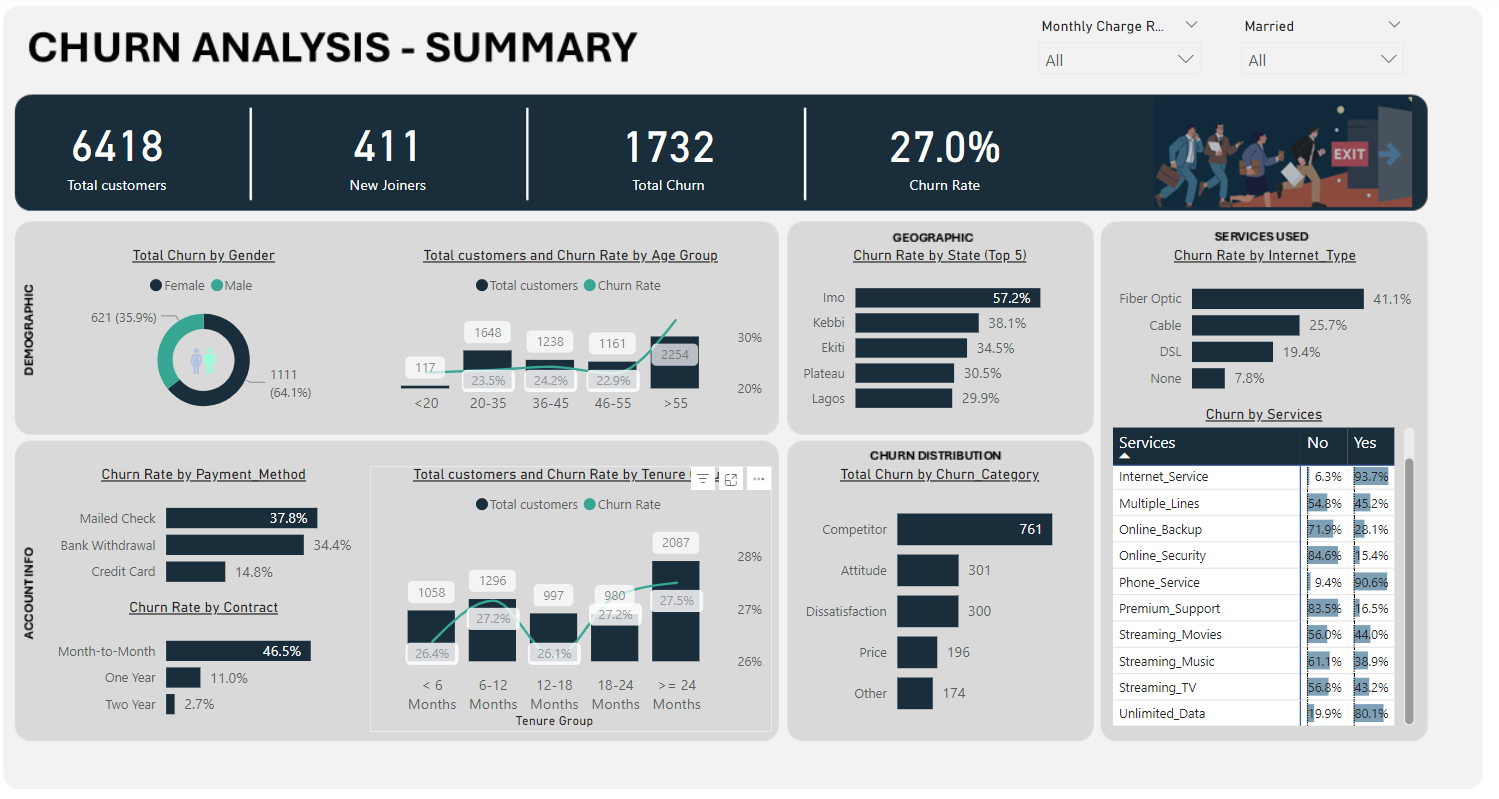

The page's visual inventory and layout, read from the dashboard file:
{"tool":"powerbi","page":{"name":"Summary","canvas":[1280,720],"ordinal":1},"visuals":[{"type":"card","fields":{"Values":["tbl_measures.Total customers"]},"box":[26.2,92.9,160,75],"z":0},{"type":"card","fields":{"Values":["tbl_measures.Total Churn"]},"box":[485.7,92.6,160.9,75.5],"z":1000},{"type":"card","fields":{"Values":["tbl_measures.New Joiners"]},"box":[252.2,92.9,160,75],"z":2000},{"type":"card","fields":{"Values":["tbl_measures.Churn Rate"]},"box":[717.6,92.6,160,75.5],"z":3000},{"type":"donutChart","fields":{"Category":["prod_Churn.Gender"],"Y":["tbl_measures.Total Churn"]},"box":[45,210,266.7,148.3],"z":4000},{"type":"lineStackedColumnComboChart","fields":{"Category":["mapping_AgeGrp.Age Group"],"Y":["tbl_measures.Total customers"],"Y2":["tbl_measures.Churn Rate"]},"box":[317.8,210,335,147.8],"z":5000},{"type":"barChart","fields":{"Category":["prod_Churn.Payment_Method"],"Y":["tbl_measures.Churn Rate"]},"box":[45,392.2,266.7,111.7],"z":6000},{"type":"barChart","fields":{"Category":["prod_Churn.Contract"],"Y":["tbl_measures.Churn Rate"]},"box":[45,503.9,266.7,111.1],"z":7000},{"type":"lineStackedColumnComboChart","fields":{"Y":["tbl_measures.Total customers"],"Y2":["tbl_measures.Churn Rate"],"Category":["mapping_TenureGrp.Tenure Group"]},"box":[317.8,392.2,335,222.8],"z":8000},{"type":"clusteredBarChart","title":"Churn Rate by State (Top 5)","fields":{"Category":["prod_Churn.State"],"Y":["tbl_measures.Churn Rate"]},"box":[670,210,246.7,148.3],"z":9000},{"type":"clusteredBarChart","fields":{"Category":["prod_Churn.Churn_Category"],"Y":["tbl_measures.Total Churn"]},"box":[670,392.2,246.7,222.8],"z":10000},{"type":"clusteredBarChart","fields":{"Y":["tbl_measures.Churn Rate"],"Category":["prod_Churn.Internet_Type"]},"box":[933,209.7,263.9,132.8],"z":11000},{"type":"pivotTable","title":"Churn by Services","fields":{"Rows":["prod_Services.Services"],"Columns":["prod_Services.Status"],"Values":["Sum(prod_Services.Churn Status)"]},"box":[933,342.5,262.3,272.3],"z":12000},{"type":"slicer","fields":{"Values":["prod_Churn.Monthly Charge Range"]},"box":[694.1,11.7,156.2,64.3],"z":13000},{"type":"slicer","fields":{"Values":["prod_Churn.Married"]},"box":[863.7,11.7,156.2,64.3],"z":14000},{"type":"image","box":[160.3,286.9,35.7,36],"z":15000},{"type":"shape","box":[1100,43.8,102.7,25.4],"z":15001}]}

Visuals, with their boxes on the page's 1280x720 design canvas (x1, y1, x2, y2). These are canvas units, not pixel positions in the 1499x799 screenshot, which may show the page scaled, cropped or inside an application window:
card - tbl_measures.Total customers: Rect(26, 93, 186, 168)
card - tbl_measures.Total Churn: Rect(486, 93, 647, 168)
card - tbl_measures.New Joiners: Rect(252, 93, 412, 168)
card - tbl_measures.Churn Rate: Rect(718, 93, 878, 168)
donutChart - prod_Churn.Gender x tbl_measures.Total Churn: Rect(45, 210, 312, 358)
lineStackedColumnComboChart - mapping_AgeGrp.Age Group x tbl_measures.Total customers: Rect(318, 210, 653, 358)
barChart - prod_Churn.Payment_Method x tbl_measures.Churn Rate: Rect(45, 392, 312, 504)
barChart - prod_Churn.Contract x tbl_measures.Churn Rate: Rect(45, 504, 312, 615)
lineStackedColumnComboChart - tbl_measures.Total customers x tbl_measures.Churn Rate: Rect(318, 392, 653, 615)
"Churn Rate by State (Top 5)" clusteredBarChart: Rect(670, 210, 917, 358)
clusteredBarChart - prod_Churn.Churn_Category x tbl_measures.Total Churn: Rect(670, 392, 917, 615)
clusteredBarChart - tbl_measures.Churn Rate x prod_Churn.Internet_Type: Rect(933, 210, 1197, 342)
"Churn by Services" pivotTable: Rect(933, 342, 1195, 615)
slicer - prod_Churn.Monthly Charge Range: Rect(694, 12, 850, 76)
slicer - prod_Churn.Married: Rect(864, 12, 1020, 76)
image: Rect(160, 287, 196, 323)
shape: Rect(1100, 44, 1203, 69)
